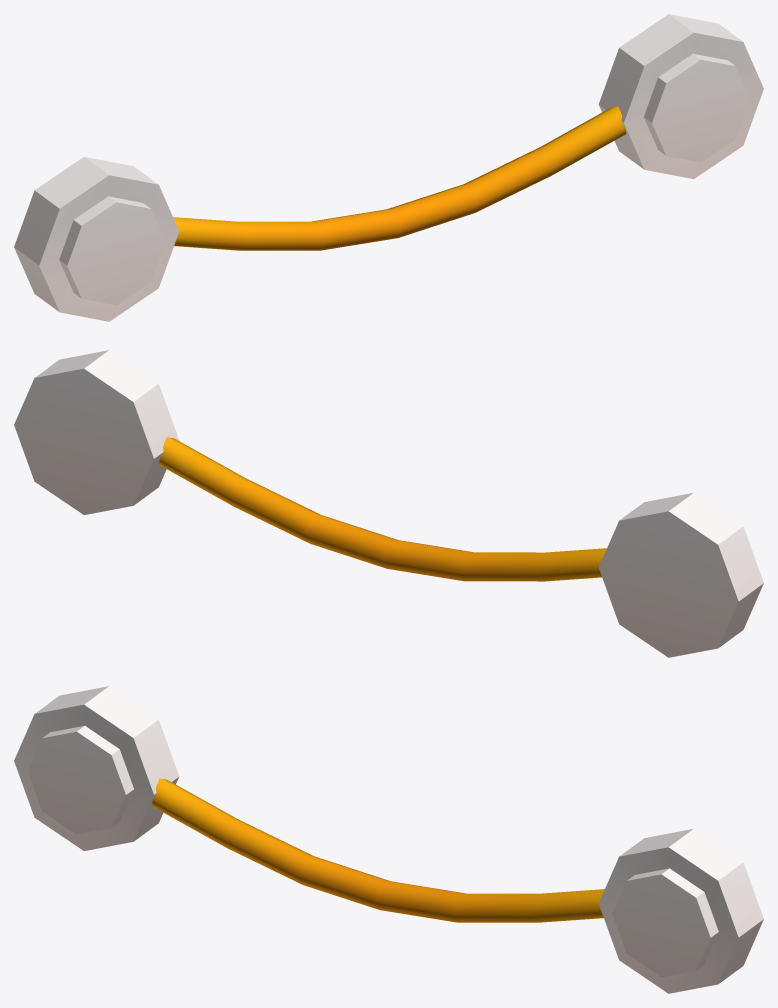
The picture shows the model from 3 angles, top to bottom: view 1: azimuth 30°, elevation 25°; view 2: azimuth 150°, elevation 25°; view 3: azimuth 330°, elevation 25°; orthographic projection.
Visible parts, largest first — view 1: lv2; view 2: lv2; view 3: lv2.
Part boxes in pixels (x1,y1,x2,y2): lv2: [14, 14, 763, 321]; lv2: [14, 350, 763, 657]; lv2: [14, 686, 763, 993].
Size of the model in its own units: 22.08 by 4.27 by 1.71.
1 material, 1 textured.
